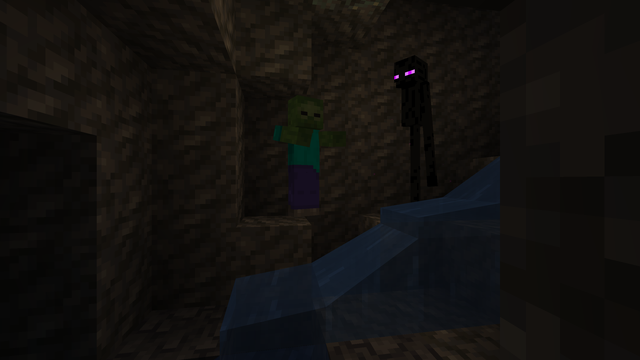endermens: (393, 50, 431, 214)
zombies: (285, 98, 322, 218)
